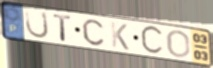C: (139, 24, 165, 57), (81, 18, 106, 47)
K: (110, 20, 131, 52)
O: (166, 29, 192, 60)
T: (52, 13, 73, 43)
U: (24, 8, 51, 40)
